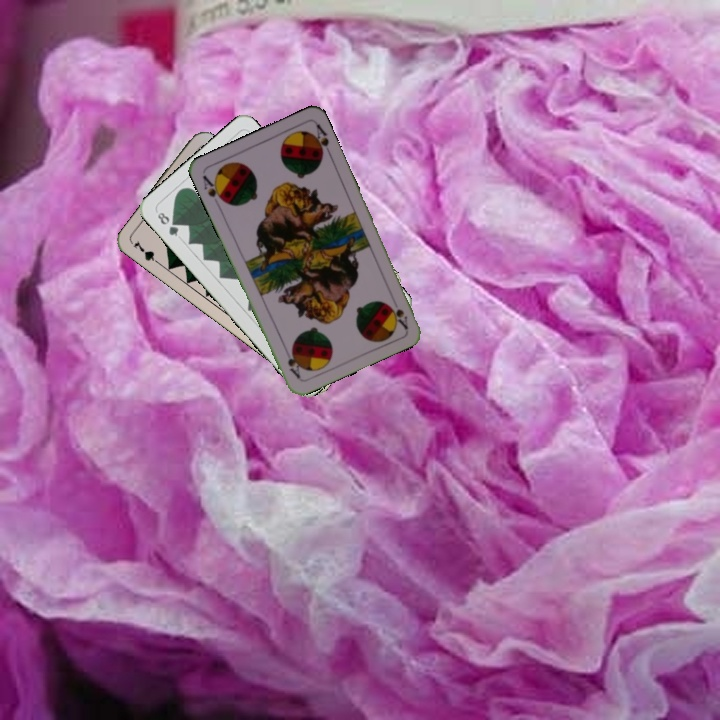G7: (129, 236, 164, 268)
G8: (153, 208, 181, 239)
SA: (198, 171, 228, 205), (386, 301, 411, 331)
